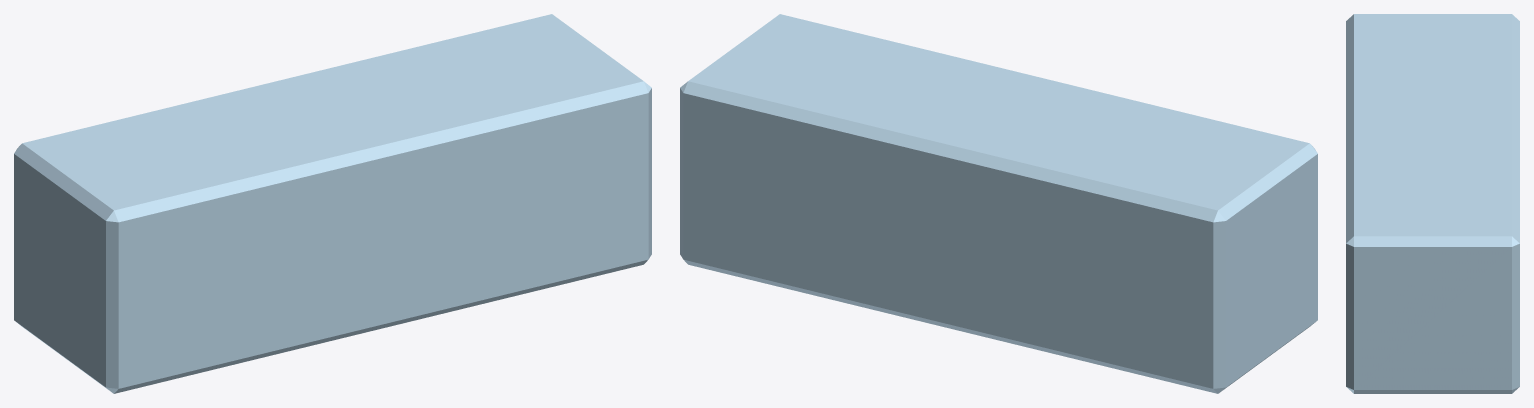
The model's file is R4B_Beam3_LOD1.glb.
3 views of the same model, side by side, from view 1: azimuth 30°, elevation 25°; view 2: azimuth 150°, elevation 25°; view 3: azimuth 270°, elevation 25° (orthographic). The views are drawn at different scales.
Parts seen in each view (by area): view 1: R4B_Beam3_LOD1; view 2: R4B_Beam3_LOD1; view 3: R4B_Beam3_LOD1.
Boxes of the visible parts, x1,y1,x2,y2 form: R4B_Beam3_LOD1: [14, 14, 651, 393]; R4B_Beam3_LOD1: [680, 14, 1317, 393]; R4B_Beam3_LOD1: [1346, 14, 1519, 393].
Size of the model in its own units: 1.62 by 0.52 by 0.52.
